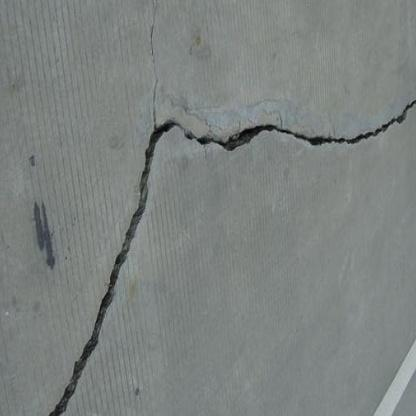Cracks: (36, 71, 416, 416), (148, 15, 161, 36), (148, 42, 160, 63)
